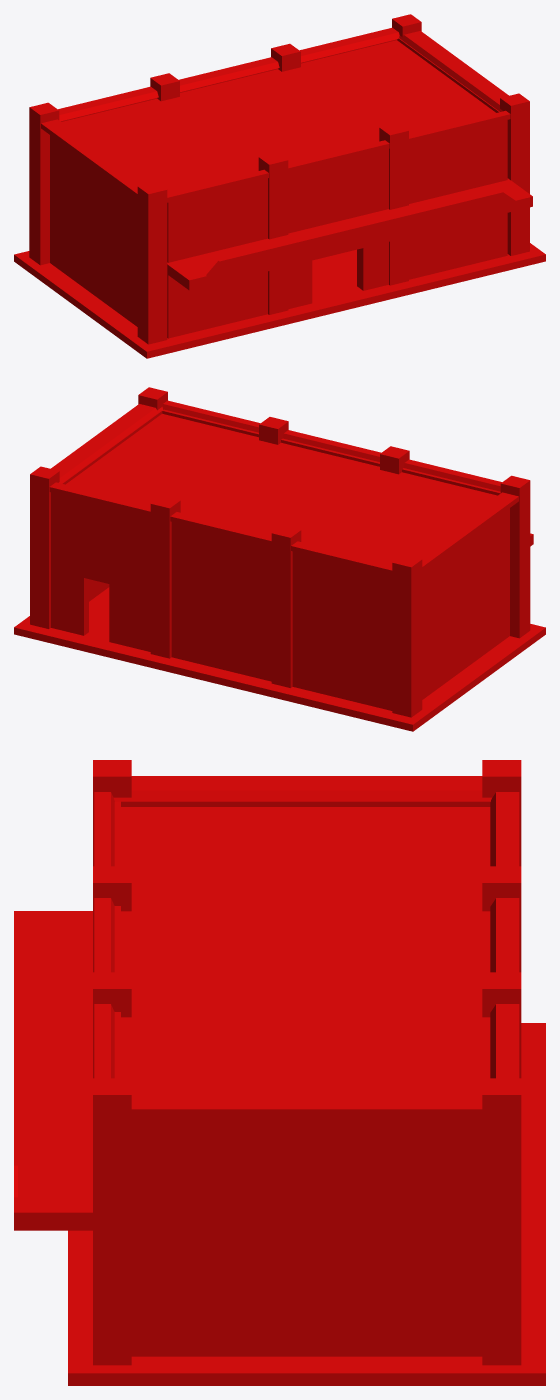
Rendered from SM_Bld_Shop_Medium_02_Collision.fbx.
The picture shows the model from 3 angles, top to bottom: view 1: azimuth 30°, elevation 25°; view 2: azimuth 150°, elevation 25°; view 3: azimuth 270°, elevation 25°; orthographic projection. The views are drawn at different scales.
Parts seen in each view (by area): view 1: SM_Bld_Shop_Medium_02_Collision; view 2: SM_Bld_Shop_Medium_02_Collision; view 3: SM_Bld_Shop_Medium_02_Collision.
Boxes of the visible parts, x1=… form: SM_Bld_Shop_Medium_02_Collision: x1=14, y1=14, x2=545, y2=358; SM_Bld_Shop_Medium_02_Collision: x1=14, y1=387, x2=545, y2=731; SM_Bld_Shop_Medium_02_Collision: x1=14, y1=760, x2=545, y2=1385.
Bounding box in the file's own units: 1604 × 604 × 1029.
